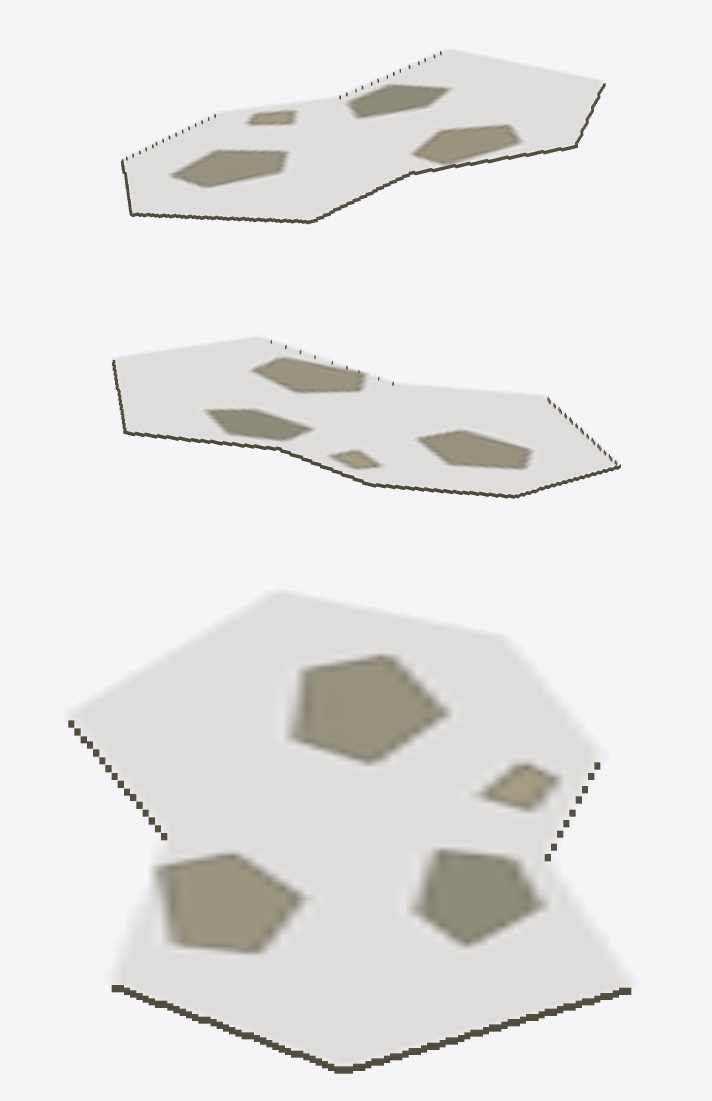
The model's file is ShalePatch.glb.
3 renders of one model, top to bottom at view 1: azimuth 30°, elevation 25°; view 2: azimuth 150°, elevation 25°; view 3: azimuth 270°, elevation 25°, orthographic. The views are drawn at different scales.
Parts seen in each view (by area): view 1: Visual; view 2: Visual; view 3: Visual.
Part boxes in pixels (x1,y1,x2,y2): Visual: (121, 50, 605, 224); Visual: (112, 337, 620, 498); Visual: (68, 593, 631, 1073).
Size of the model in its own units: 3 by 0.02 by 1.7.
3 materials, 2 textured.
